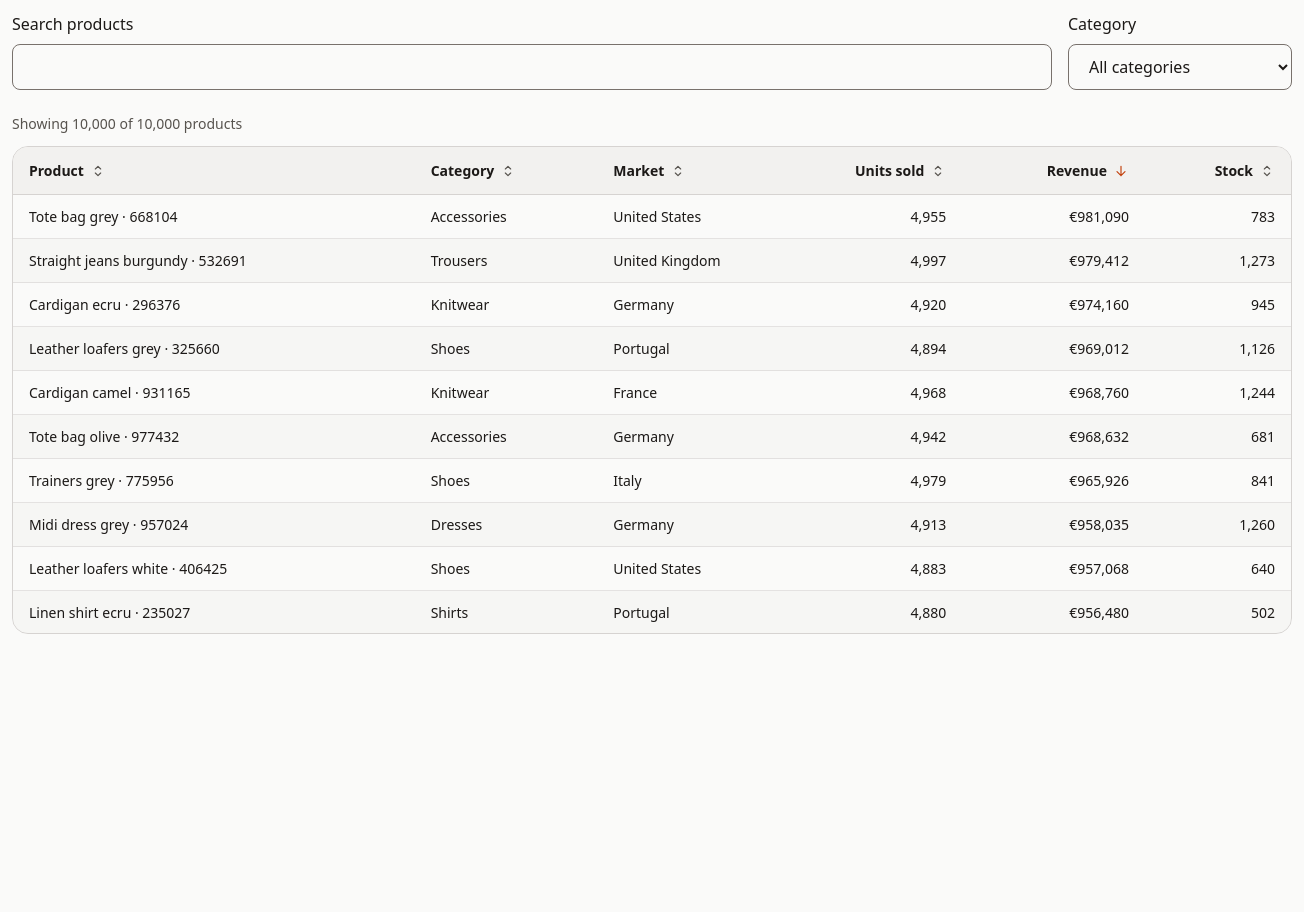
Test case: DataGrid › filters by category and announces the result count
The width and height of the screenshot is (1304, 912).
Select "Shoes" in the dropdown labelled "Category" at coordinates (1180, 67), box [1068, 44, 1292, 90]
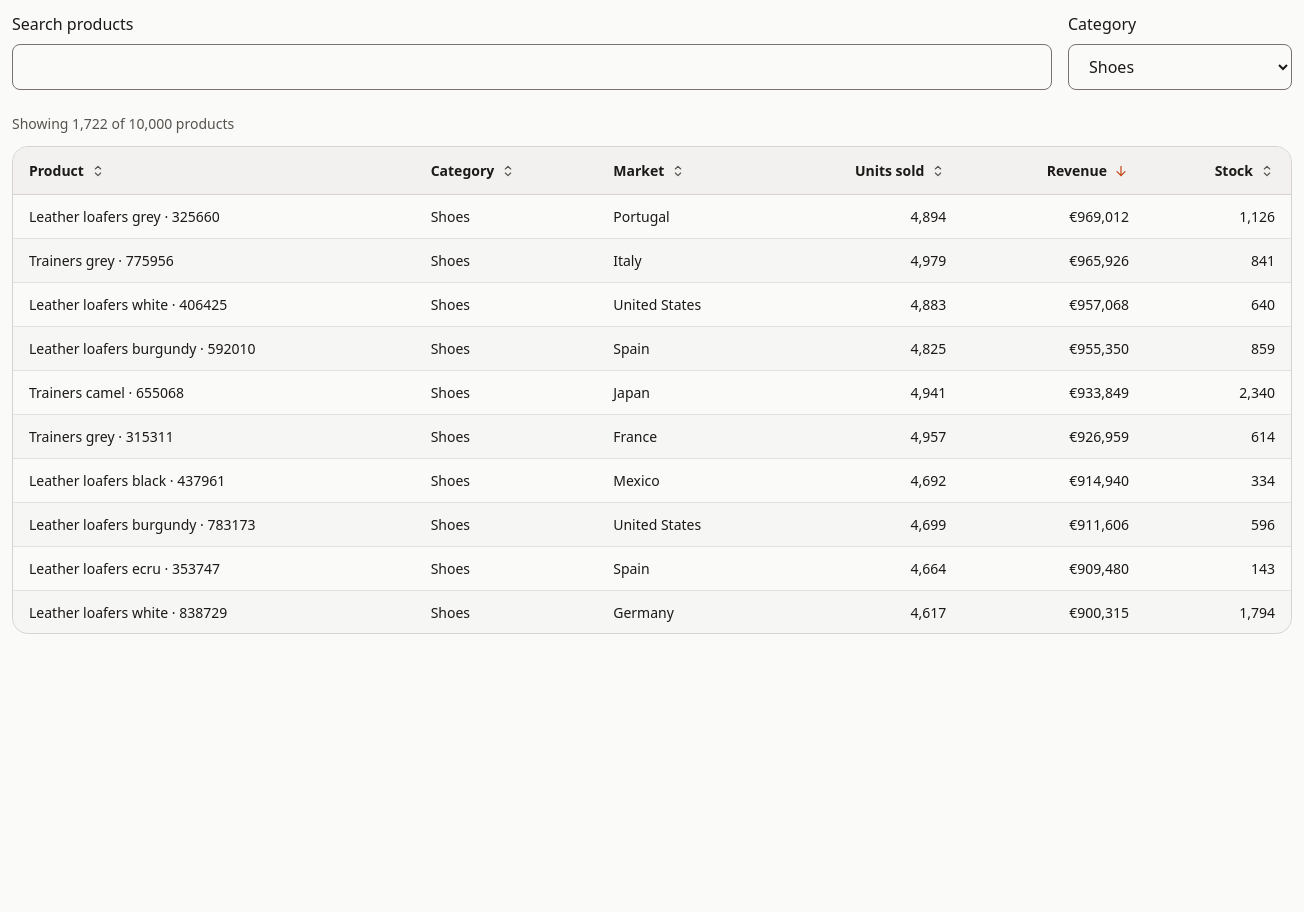
Result: the message no longer shows "Showing 10,000" at [12, 114, 234, 133]
Result: the cell "Shoes" in the row of "Trainers camel · 655068" is shown at [431, 382, 470, 402]
Result: the cell "Shoes" in the row of "Trainers grey · 315311" is shown at [431, 426, 470, 446]
